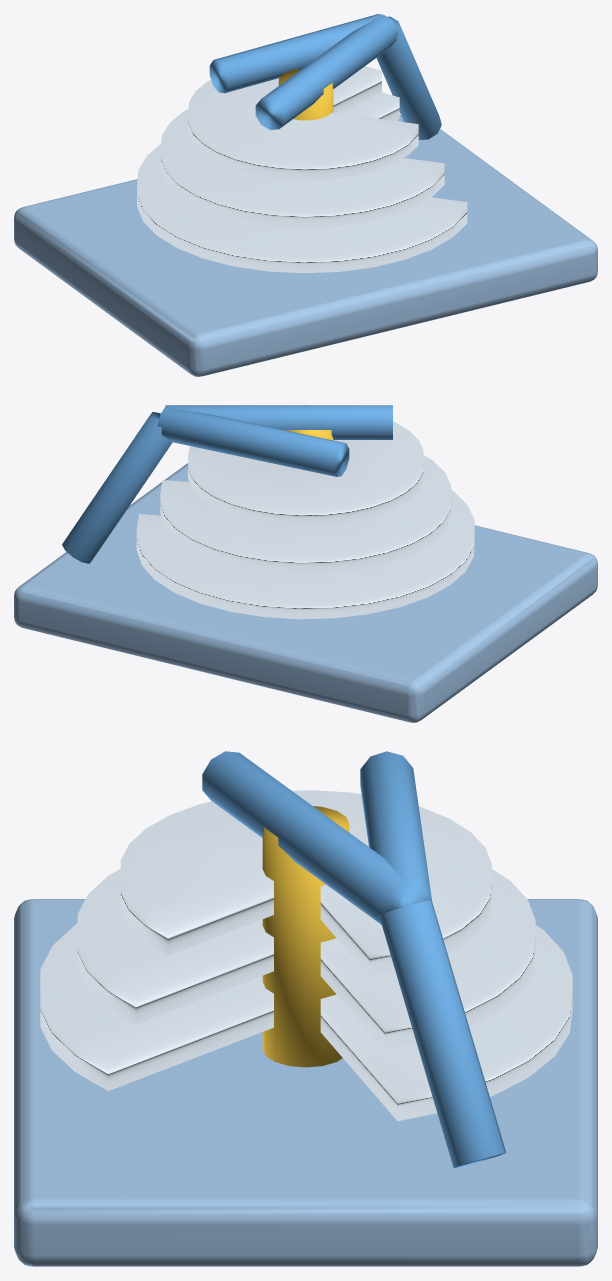
Rendered from pcv_disk_image_cutaway_platter.glb.
The picture shows the model from 3 angles, top to bottom: view 1: azimuth 30°, elevation 25°; view 2: azimuth 150°, elevation 25°; view 3: azimuth 270°, elevation 25°; orthographic projection. The views are drawn at different scales.
Parts seen in each view (by area): view 1: pcv_disk_image_cutaway_platter_MOBILE_JOINED; view 2: pcv_disk_image_cutaway_platter_MOBILE_JOINED; view 3: pcv_disk_image_cutaway_platter_MOBILE_JOINED.
Boxes of the visible parts, <box> form: pcv_disk_image_cutaway_platter_MOBILE_JOINED: <box>14,14,597,376</box>; pcv_disk_image_cutaway_platter_MOBILE_JOINED: <box>14,405,597,722</box>; pcv_disk_image_cutaway_platter_MOBILE_JOINED: <box>14,751,597,1266</box>.
Size of the model in its own units: 1.2 by 0.565 by 0.94.
